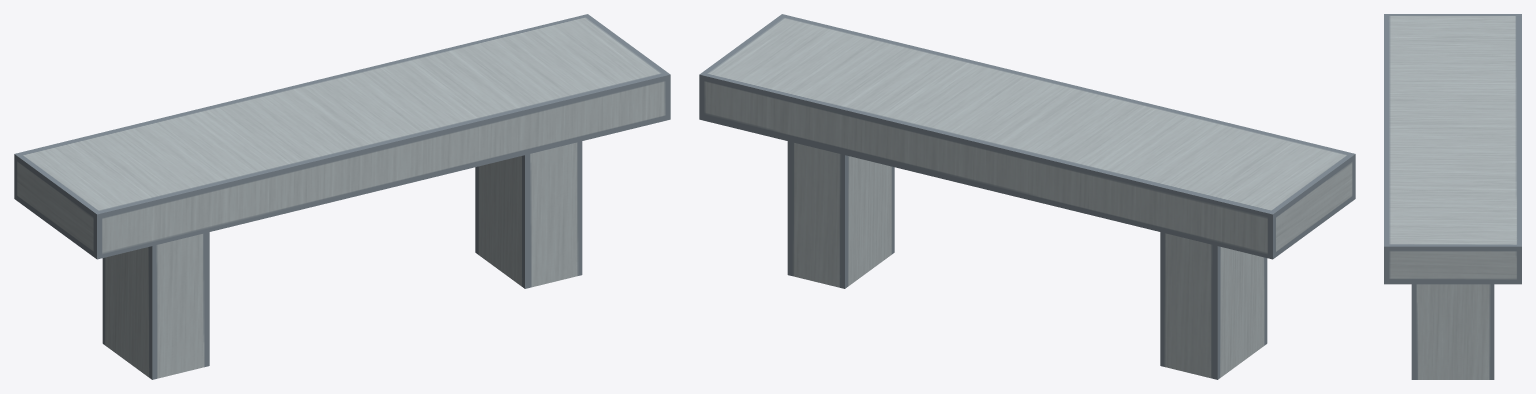
The model's file is Bench.fbx.
The picture shows the model from 3 angles, left to right: view 1: azimuth 30°, elevation 25°; view 2: azimuth 150°, elevation 25°; view 3: azimuth 270°, elevation 25°; orthographic projection. The views are drawn at different scales.
Visible parts, largest first — view 1: Bench; view 2: Bench; view 3: Bench.
Boxes of the visible parts, bbox=[...] form: Bench: bbox=[14, 14, 670, 379]; Bench: bbox=[699, 14, 1355, 379]; Bench: bbox=[1384, 14, 1521, 379].
Bounding box in the file's own units: 2 × 0.5 × 0.65.
1 material, 1 textured.
